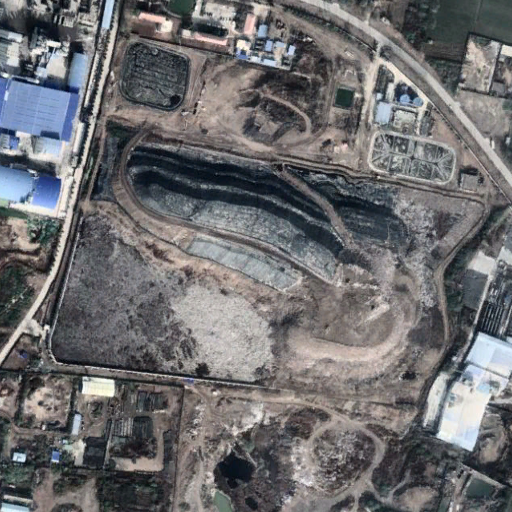lf: (54, 136, 484, 413)
